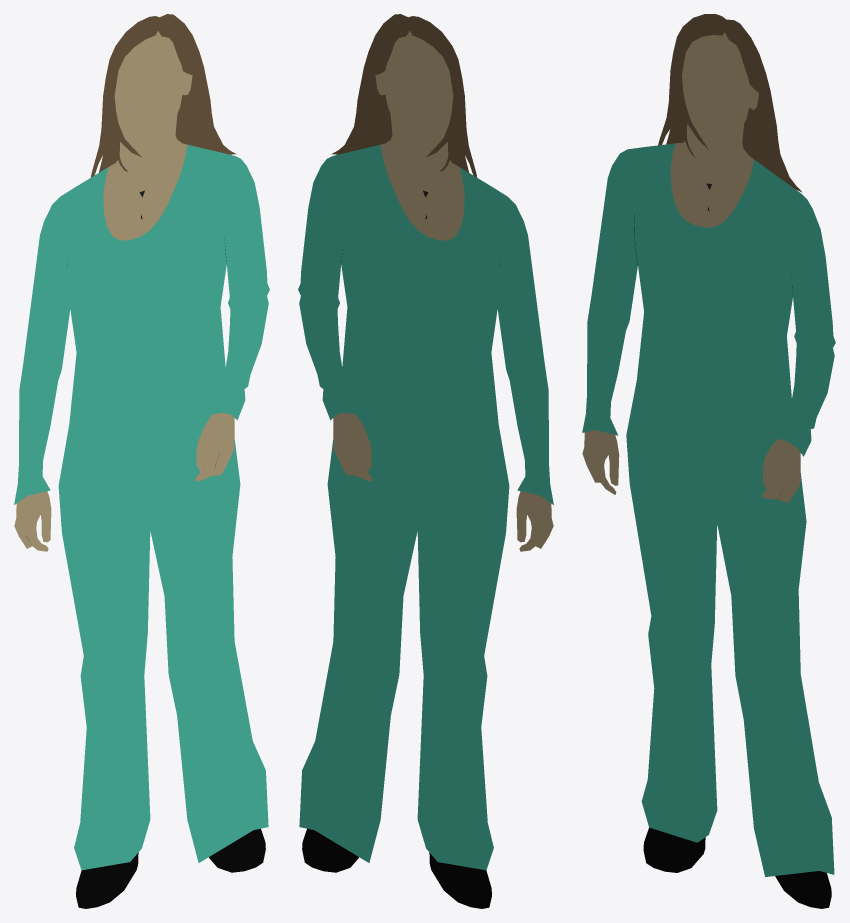
Rendered from 2D_Woman_Standing_Denise-scrubs.fbx.
3 views of the same model, side by side, from view 1: azimuth 30°, elevation 25°; view 2: azimuth 150°, elevation 25°; view 3: azimuth 330°, elevation 25° (orthographic).
Parts seen in each view (by area): view 1: Mesh01; view 2: Mesh01; view 3: Mesh01.
Part boxes in pixels (x1,y1,x2,y2): Mesh01: (14, 14, 269, 908); Mesh01: (298, 14, 553, 908); Mesh01: (582, 14, 835, 908).
Bounding box in the file's own units: 30.52 × 100 × 3.76e-14.
